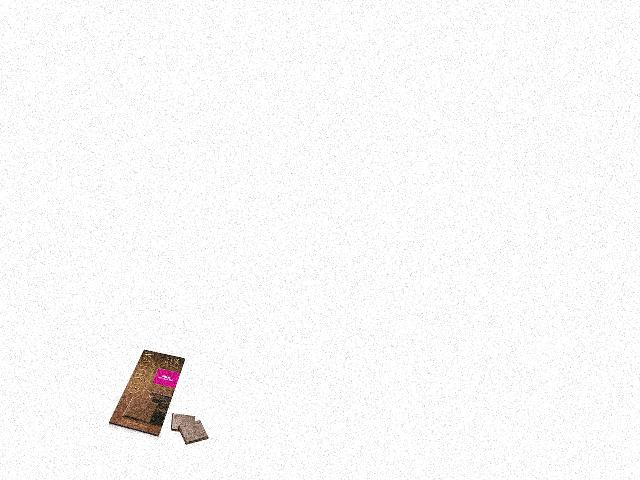chocolate: (108, 348, 186, 438)
